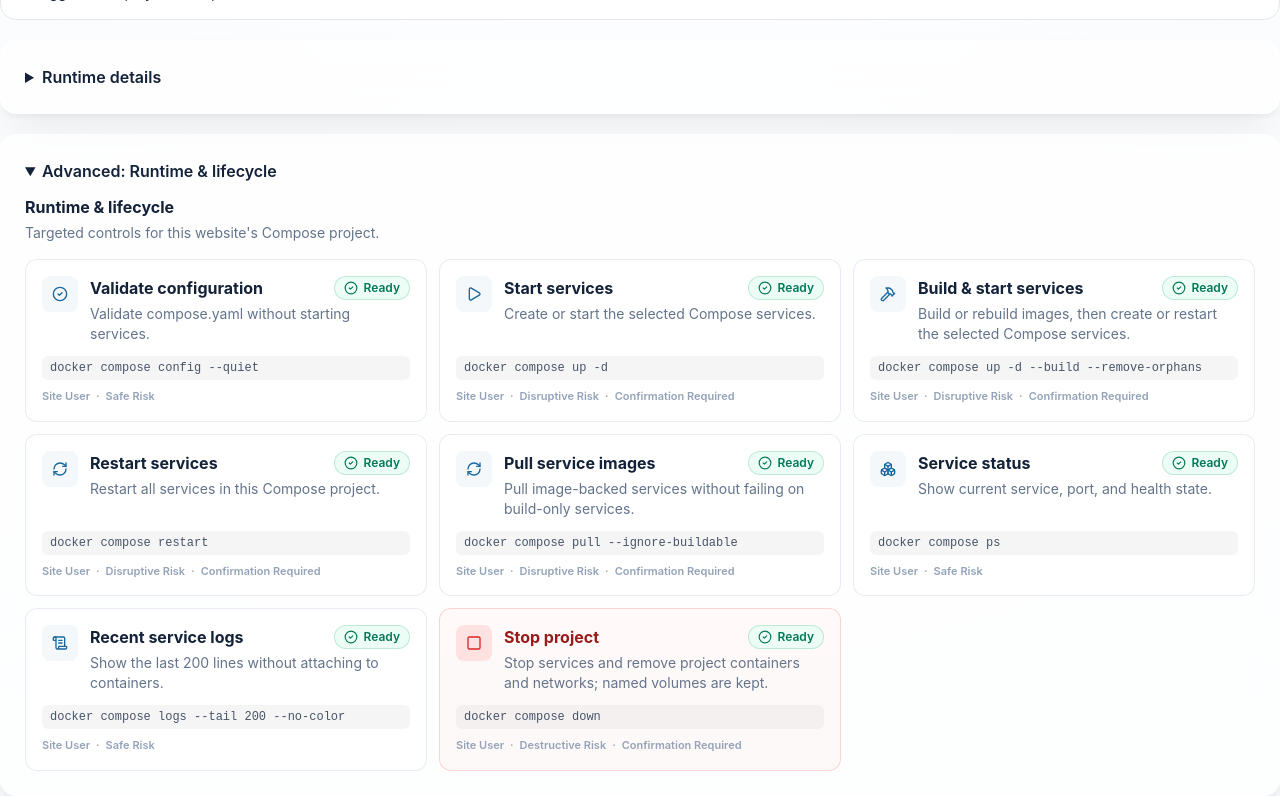
Test: ActionsManager › requires confirmation before a destructive Compose action
(page scrolled)
Click the button "Stop project": {"x": 640, "y": 689} left=439, top=608, right=841, bottom=770
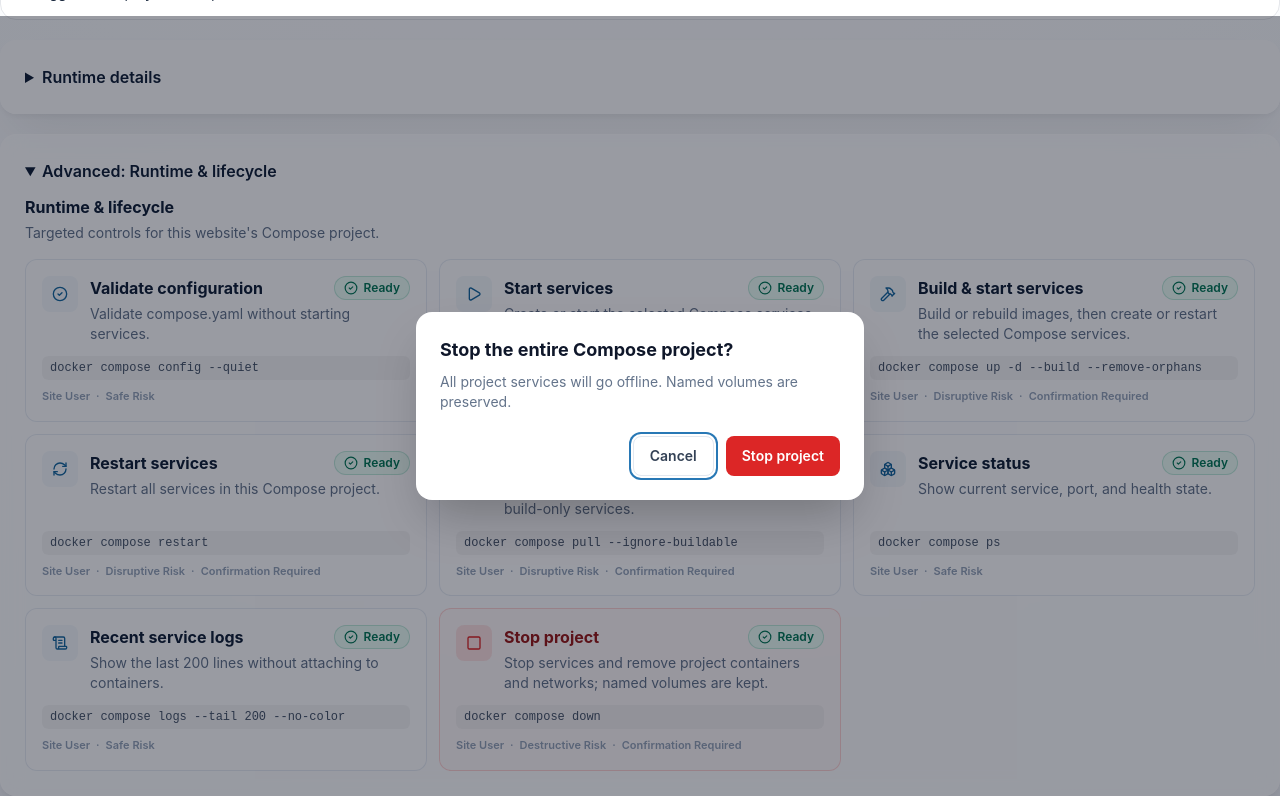
Expected: the text "Named volumes are preserved" is shown, left=440, top=373, right=798, bottom=410
